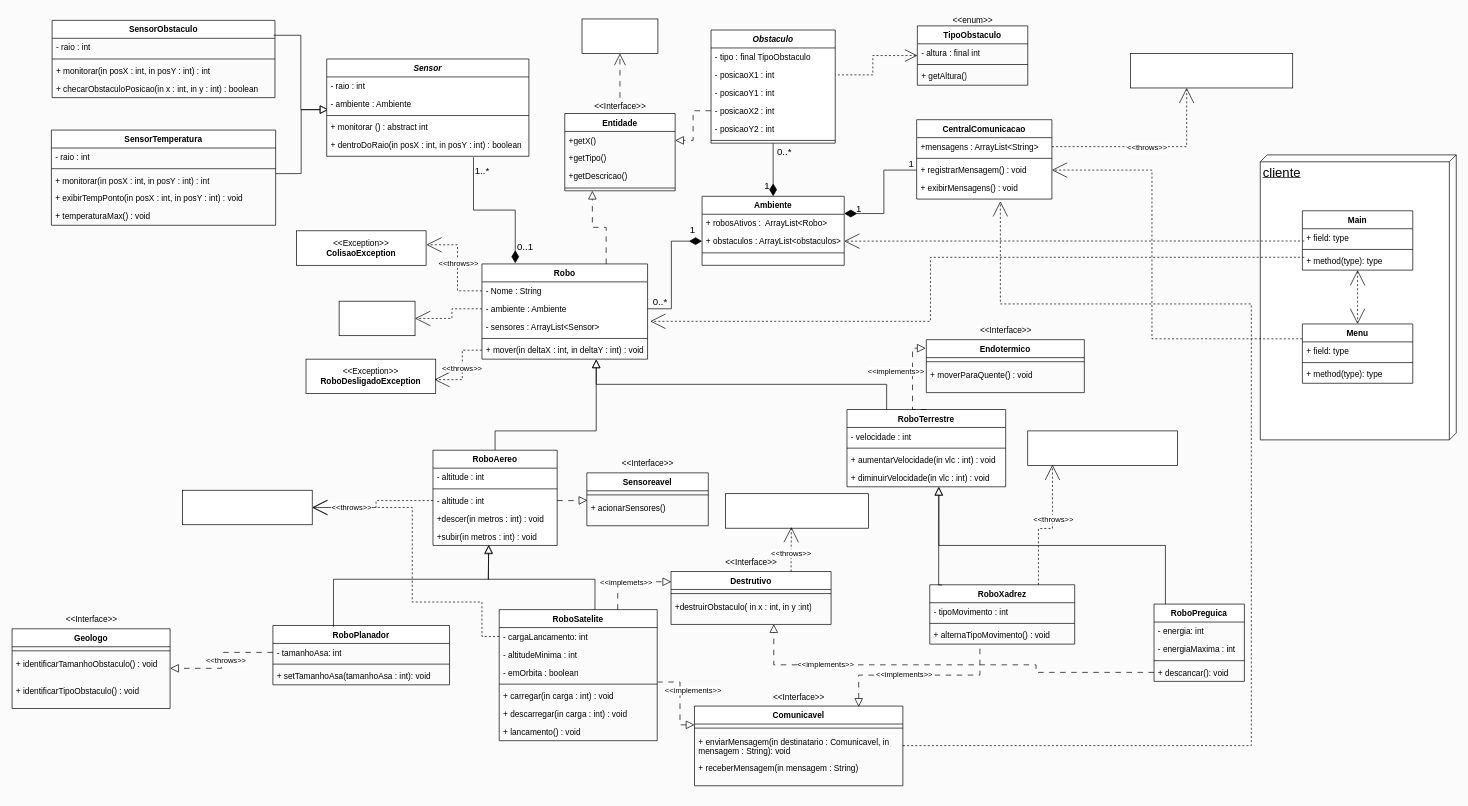
Some shapes in this 1468 by 806 pixel diagram are drawn without their labels. Each missing label, with the centre of its shape:
"<<Exception>> DesceuDemaisException" belongs at pixel 247 507.
"<<Exception>> ErroComunicacaoException" belongs at pixel 1211 70.
"<<Exception>> MovimentoXadrezInvalido Exception" belongs at pixel 1102 447.
"<<Exception>> SemObstaculoDestrutivel Exception" belongs at pixel 796 510.
"«enum» EstadoRobo" belongs at pixel 376 318.
"«enum» TipoEntidade" belongs at pixel 619 35.
